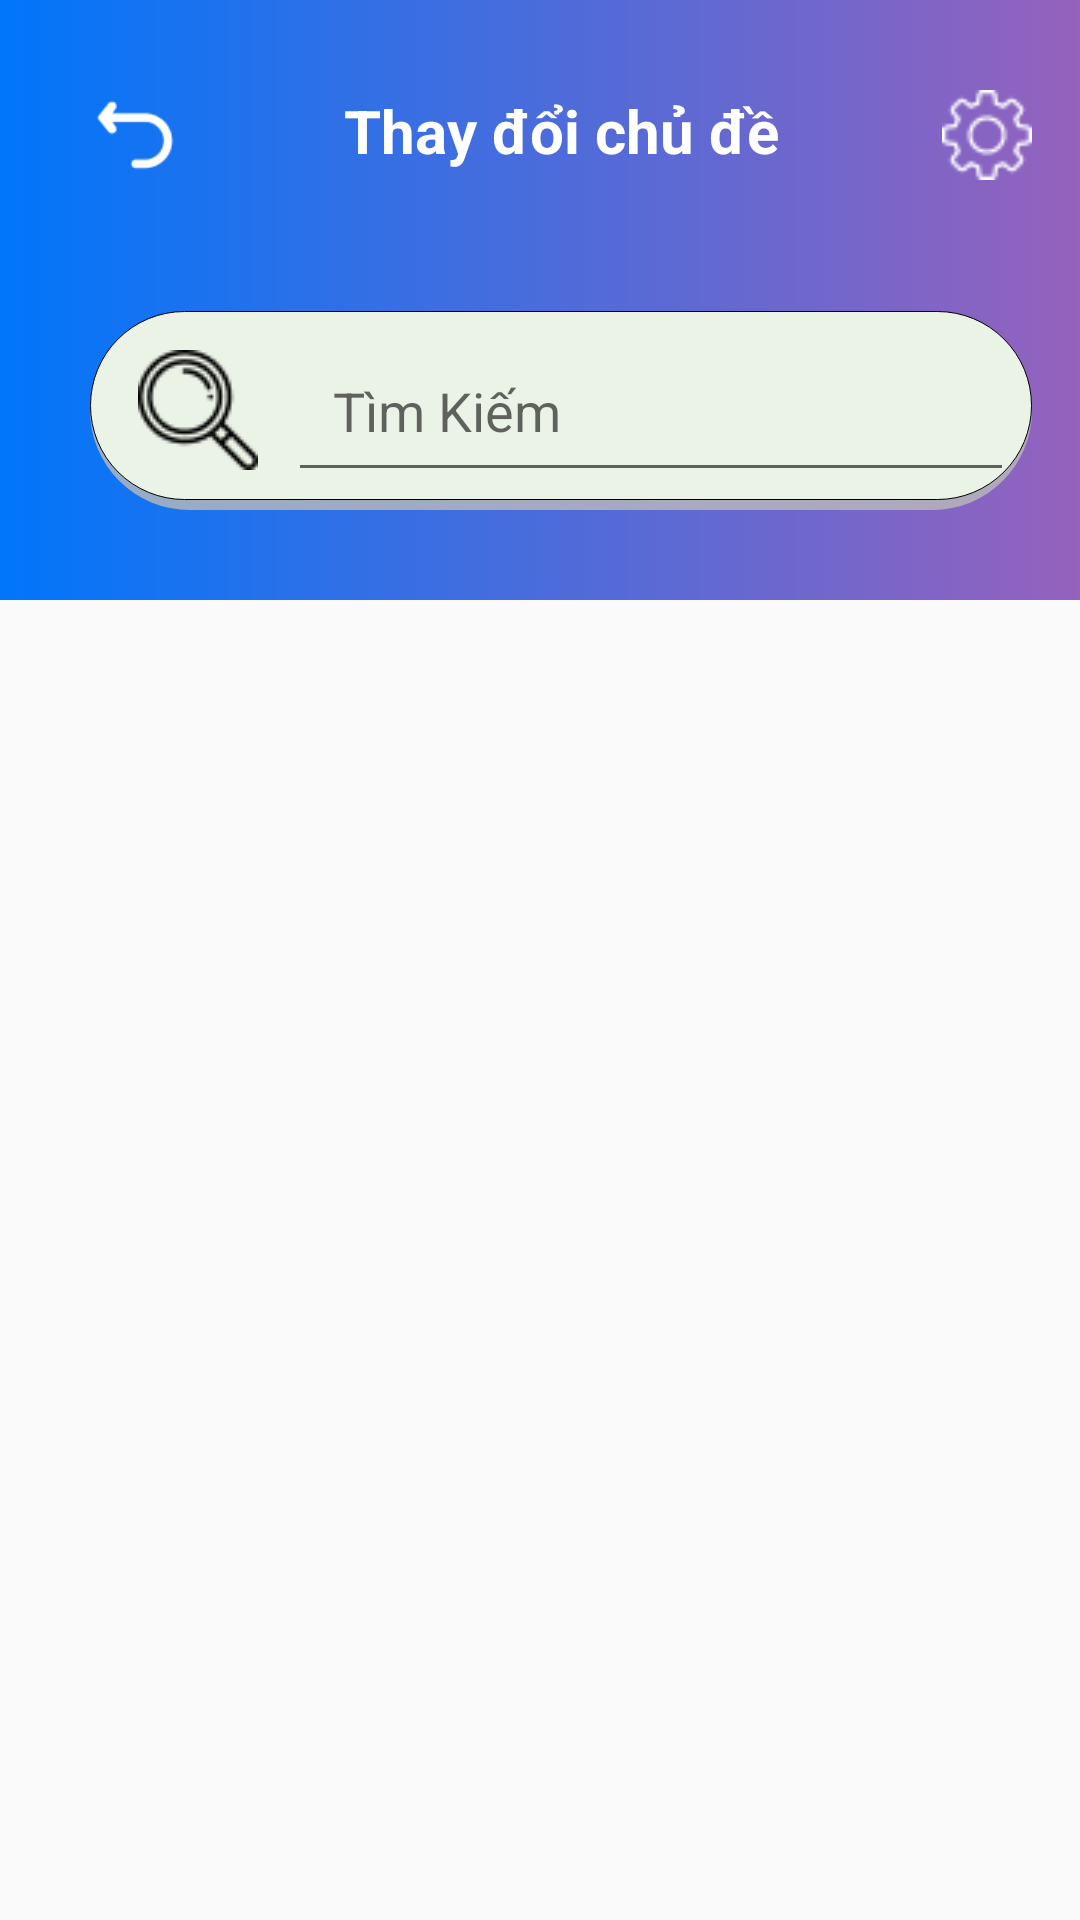

Icons on this 1080*1920 Android screen, each with the point to tap as (x,y):
classroom search: (198,410)
profile settings: (987,135)
